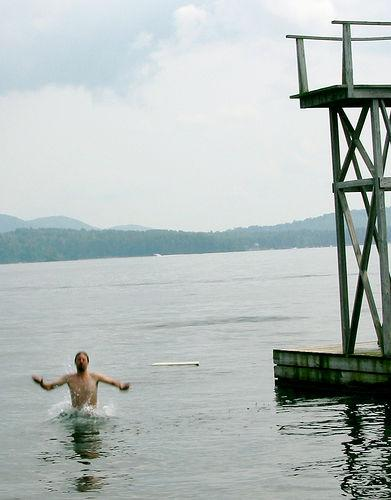human: (30, 351, 130, 414)
